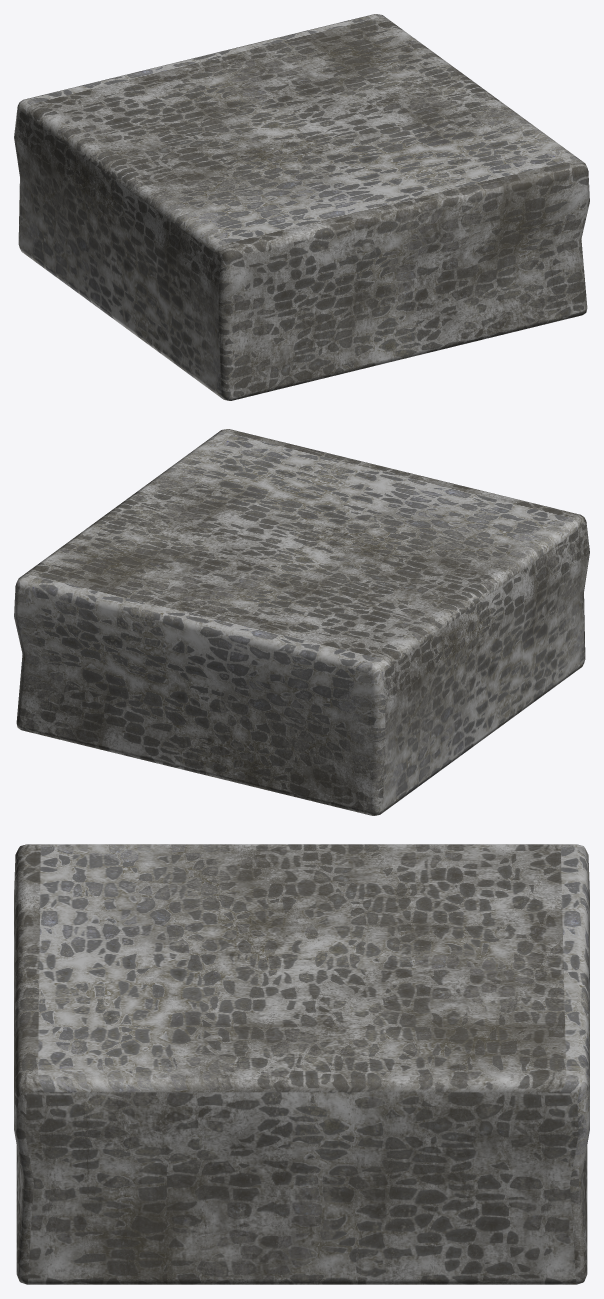
File: SM_StoneBlock_5x5x2.fbx
The picture shows the model from 3 angles, top to bottom: view 1: azimuth 30°, elevation 25°; view 2: azimuth 150°, elevation 25°; view 3: azimuth 270°, elevation 25°; orthographic projection. The views are drawn at different scales.
Visible parts, largest first — view 1: SM_StoneBlock_5x5x2_LOD0; view 2: SM_StoneBlock_5x5x2_LOD0; view 3: SM_StoneBlock_5x5x2_LOD0.
Boxes of the visible parts, box(x1,y1,x2,y2) form: SM_StoneBlock_5x5x2_LOD0: box(14, 14, 589, 400); SM_StoneBlock_5x5x2_LOD0: box(14, 429, 589, 815); SM_StoneBlock_5x5x2_LOD0: box(14, 844, 589, 1284).
Bounding box in the file's own units: 507 × 503 × 200.
Materials: 1 (1 with a texture image).
